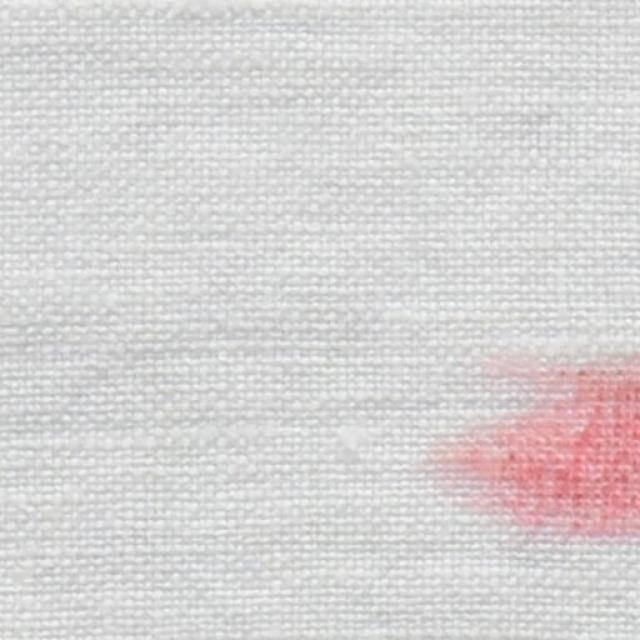Stain: (432, 358, 640, 539)
